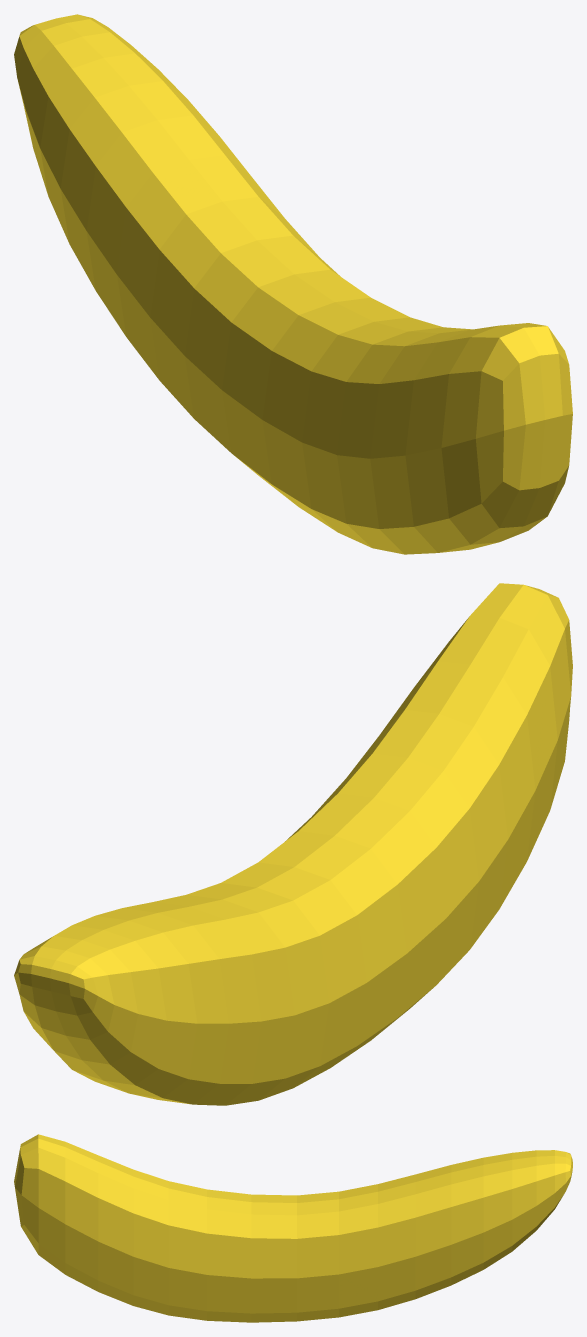
Rendered from banana_full_1.glb.
3 views of the same model, one above another, from view 1: azimuth 30°, elevation 25°; view 2: azimuth 150°, elevation 25°; view 3: azimuth 270°, elevation 25° (orthographic). The views are drawn at different scales.
Visible parts, largest first — view 1: Banana.001; view 2: Banana.001; view 3: Banana.001.
Boxes of the visible parts, <box> form: Banana.001: <box>14,14,572,554</box>; Banana.001: <box>14,583,572,1105</box>; Banana.001: <box>14,1134,572,1322</box>.
Size of the model in its own units: 1.92 by 3.96 by 11.36.
